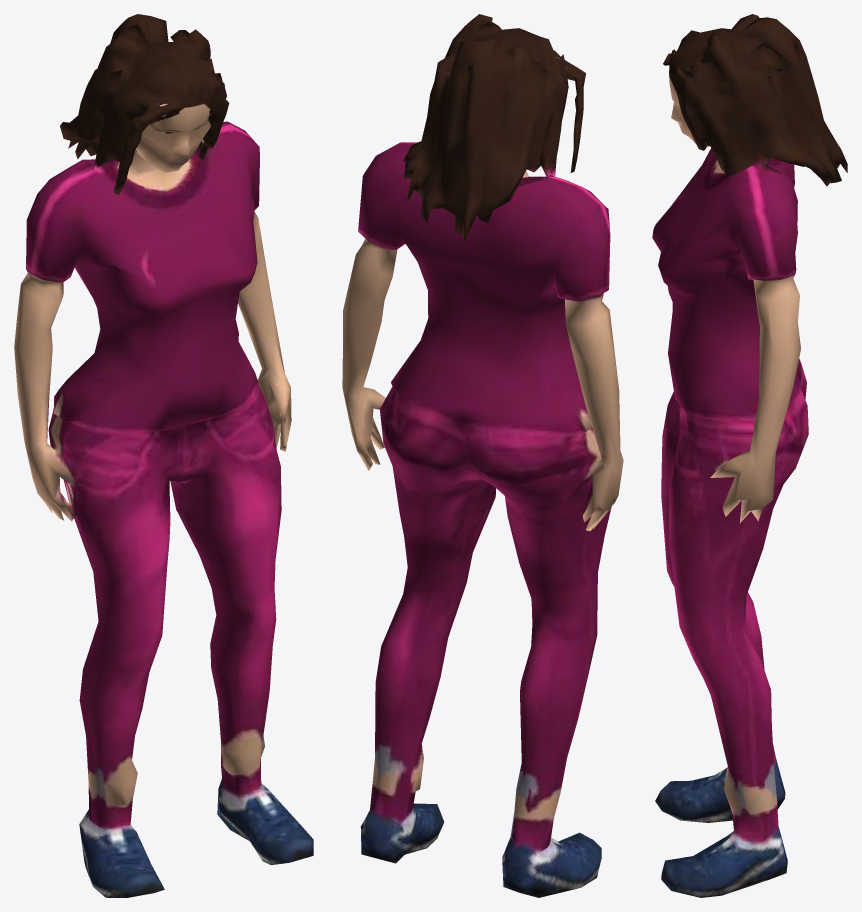
File: female-a-idle-near.glb
3 views of the same model, side by side, from view 1: azimuth 30°, elevation 25°; view 2: azimuth 150°, elevation 25°; view 3: azimuth 270°, elevation 25° (orthographic). The views are drawn at different scales.
Parts seen in each view (by area): view 1: crowd; view 2: crowd; view 3: crowd.
Boxes of the visible parts, x1=… form: crowd: x1=14, y1=14, x2=313, y2=897; crowd: x1=342, y1=14, x2=623, y2=897; crowd: x1=652, y1=14, x2=847, y2=897.
Size of the model in its own units: 0.556 by 1.69 by 0.3644.
Materials: 1 (1 with a texture image).
